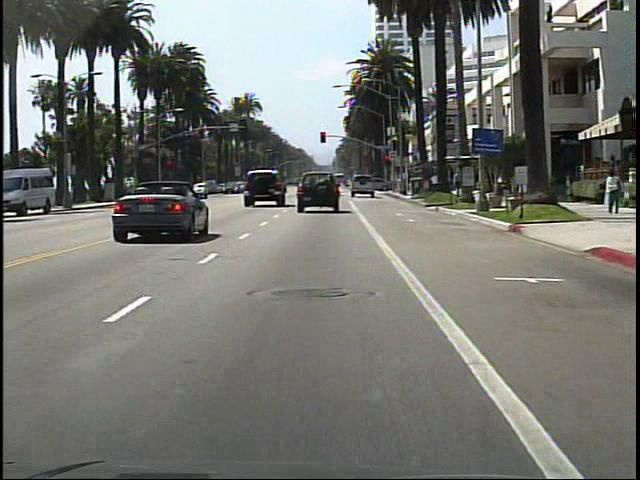person: (601, 168, 620, 217), (428, 171, 442, 196)
